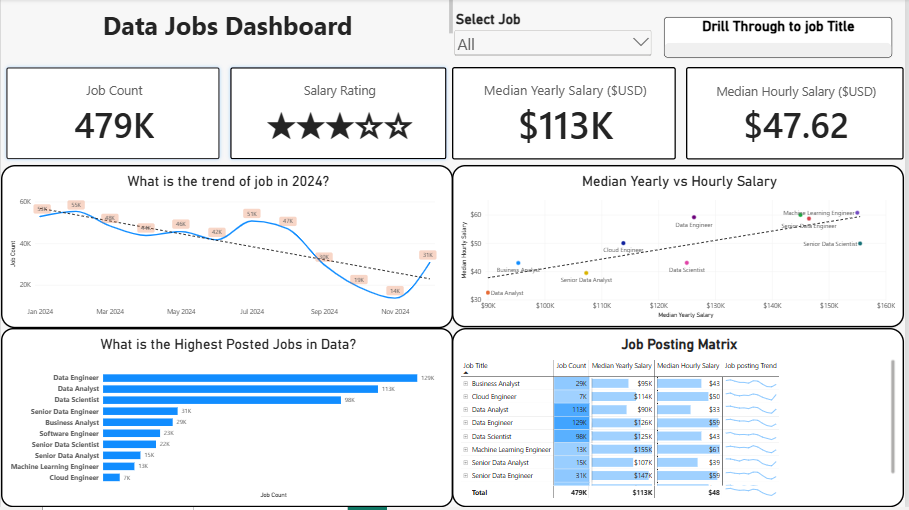

The dashboard page shown, as its layout file describes it:
{"tool":"powerbi","page":{"name":"Data Job Dashboard","canvas":[1920,1080],"ordinal":0},"visuals":[{"type":"textbox","box":[10.6,0,950.3,80.8],"z":0},{"type":"slicer","fields":{"Values":["job_postings_flat.job_title_short"]},"box":[958.9,25.7,429.1,278.9],"z":1000},{"type":"cardVisual","fields":{"Data":["Median(job_postings_flat.salary_hour_avg)"]},"box":[1456.6,143.7,463.4,197.4],"z":2000},{"type":"cardVisual","fields":{"Data":["Median(job_postings_flat.salary_year_avg)"]},"box":[958.9,143.7,476.2,197.4],"z":3000},{"type":"cardVisual","fields":{"Data":["job_postings_flat.Salary Rating"]},"box":[476.2,133,482.6,219],"z":4000},{"type":"cardVisual","fields":{"Data":["CountNonNull(job_postings_flat.job_title_short)"]},"box":[0,133.9,476.2,219],"z":5000},{"type":"lineChart","title":"What is the trend of job in 2024?","fields":{"Category":["job_postings_flat.job_posted_date.Variation.Date Hierarchy.Year","job_postings_flat.job_posted_date.Variation.Date Hierarchy.Quarter","job_postings_flat.job_posted_date.Variation.Date Hierarchy.Month","job_postings_flat.job_posted_date.Variation.Date Hierarchy.Day"],"Y":["CountNonNull(job_postings_flat.job_title_short)"]},"box":[0,352.9,960.9,346.5],"z":6000},{"type":"barChart","title":"What is the Highest Posted Jobs in Data?","fields":{"Category":["job_postings_flat.job_title_short"],"Y":["CountNonNull(job_postings_flat.job_title_short)"]},"box":[0,699.4,960.9,380.6],"z":7000},{"type":"pivotTable","title":"Job Posting Matrix","fields":{"Rows":["job_postings_flat.job_title_short","job_postings_flat.job_posted_date.Variation.Date Hierarchy.Quarter"],"Values":["CountNonNull(job_postings_flat.job_title_short)","Median(job_postings_flat.salary_year_avg)","Median(job_postings_flat.salary_hour_avg)","SparklineData(CountNonNull(job_postings_flat.job_title_short)_[job_postings_flat.job_posted_date.Variation.Date Hierarch"]},"box":[958.8,699.4,960.9,380.6],"z":8000},{"type":"scatterChart","title":"Median Yearly vs Hourly Salary","fields":{"Series":["job_postings_flat.job_title_short"],"X":["Median(job_postings_flat.salary_year_avg)"],"Y":["Median(job_postings_flat.salary_hour_avg)"]},"box":[958.9,354,961.1,345.4],"z":9000},{"type":"actionButton","title":"Drill Through to job Title","box":[1409.4,38.6,484.8,85.8],"z":10000}]}

Visuals, with their boxes in screenshot pixels (x1, y1, x2, y2), scaled from the page's 1920x1080 canvas onto the 909x510 screenshot:
textbox: box(5, 0, 455, 38)
slicer - job_postings_flat.job_title_short: box(454, 12, 657, 144)
cardVisual - Median(job_postings_flat.salary_hour_avg): box(690, 68, 908, 161)
cardVisual - Median(job_postings_flat.salary_year_avg): box(454, 68, 679, 161)
cardVisual - job_postings_flat.Salary Rating: box(225, 63, 454, 166)
cardVisual - CountNonNull(job_postings_flat.job_title_short): box(0, 63, 225, 167)
"What is the trend of job in 2024?" lineChart: box(0, 167, 455, 330)
"What is the Highest Posted Jobs in Data?" barChart: box(0, 330, 455, 509)
"Job Posting Matrix" pivotTable: box(454, 330, 908, 509)
"Median Yearly vs Hourly Salary" scatterChart: box(454, 167, 908, 330)
"Drill Through to job Title" actionButton: box(667, 18, 897, 59)
